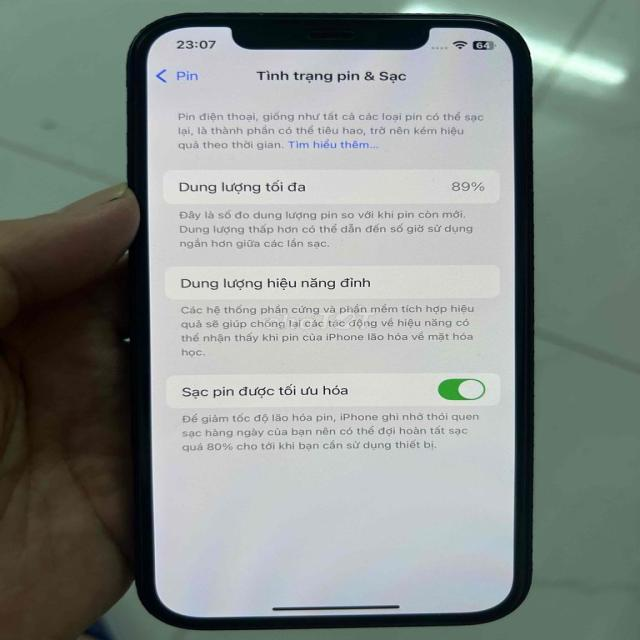gen_12_13: (106, 12, 538, 636)
